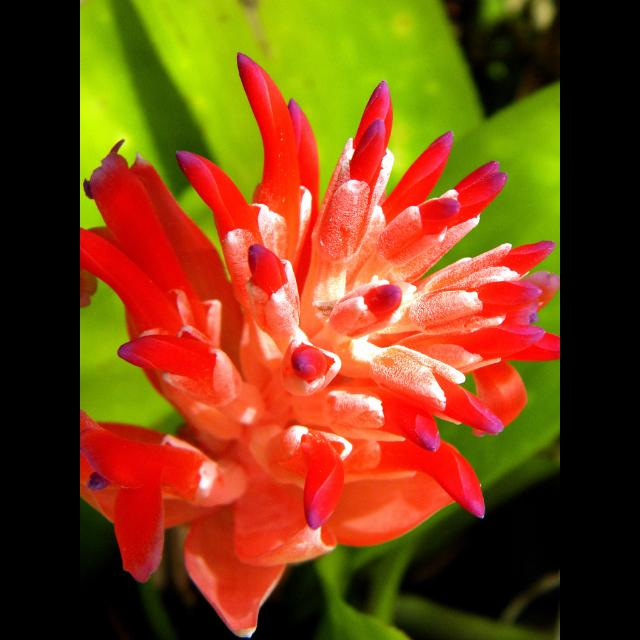Flower: (84, 44, 544, 640)
